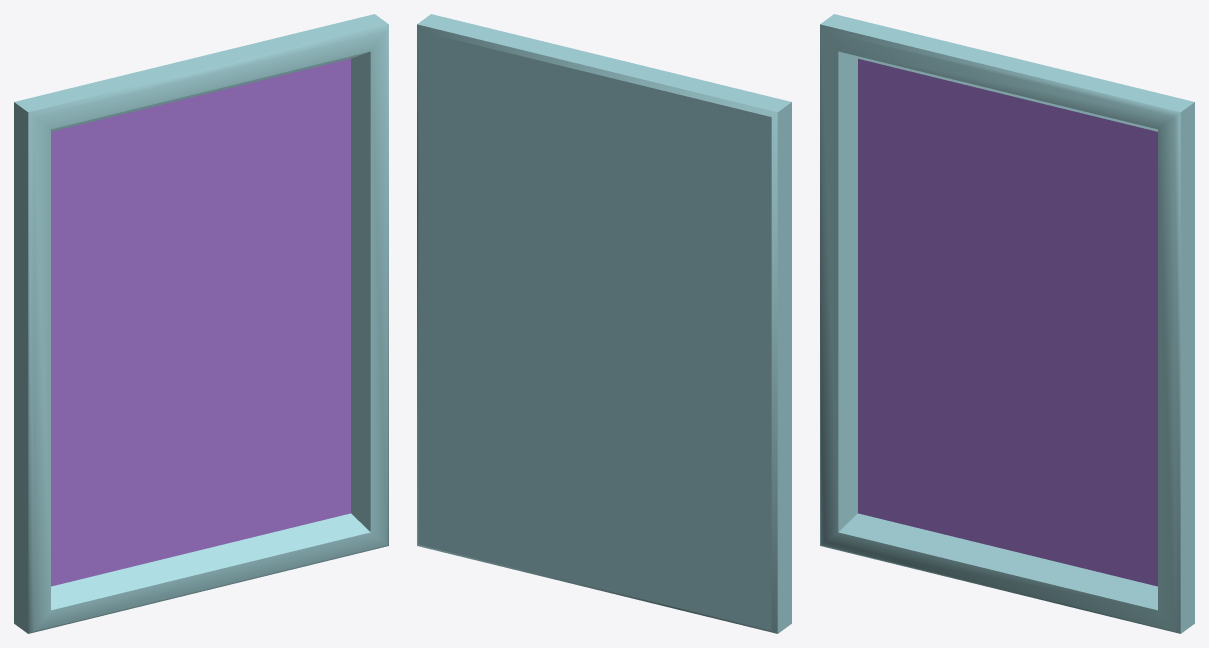
Rendered from Friday_PictureFrame.fbx.
3 views of the same model, side by side, from view 1: azimuth 30°, elevation 25°; view 2: azimuth 150°, elevation 25°; view 3: azimuth 330°, elevation 25° (orthographic).
Parts seen in each view (by area): view 1: Picture; view 2: Picture; view 3: Picture.
Part boxes in pixels (box(x1,y1,x2,y2)): Picture: box(14, 14, 388, 633); Picture: box(417, 14, 791, 633); Picture: box(820, 14, 1194, 633).
Bounding box in the file's own units: 58.56 × 80.92 × 5.31.
